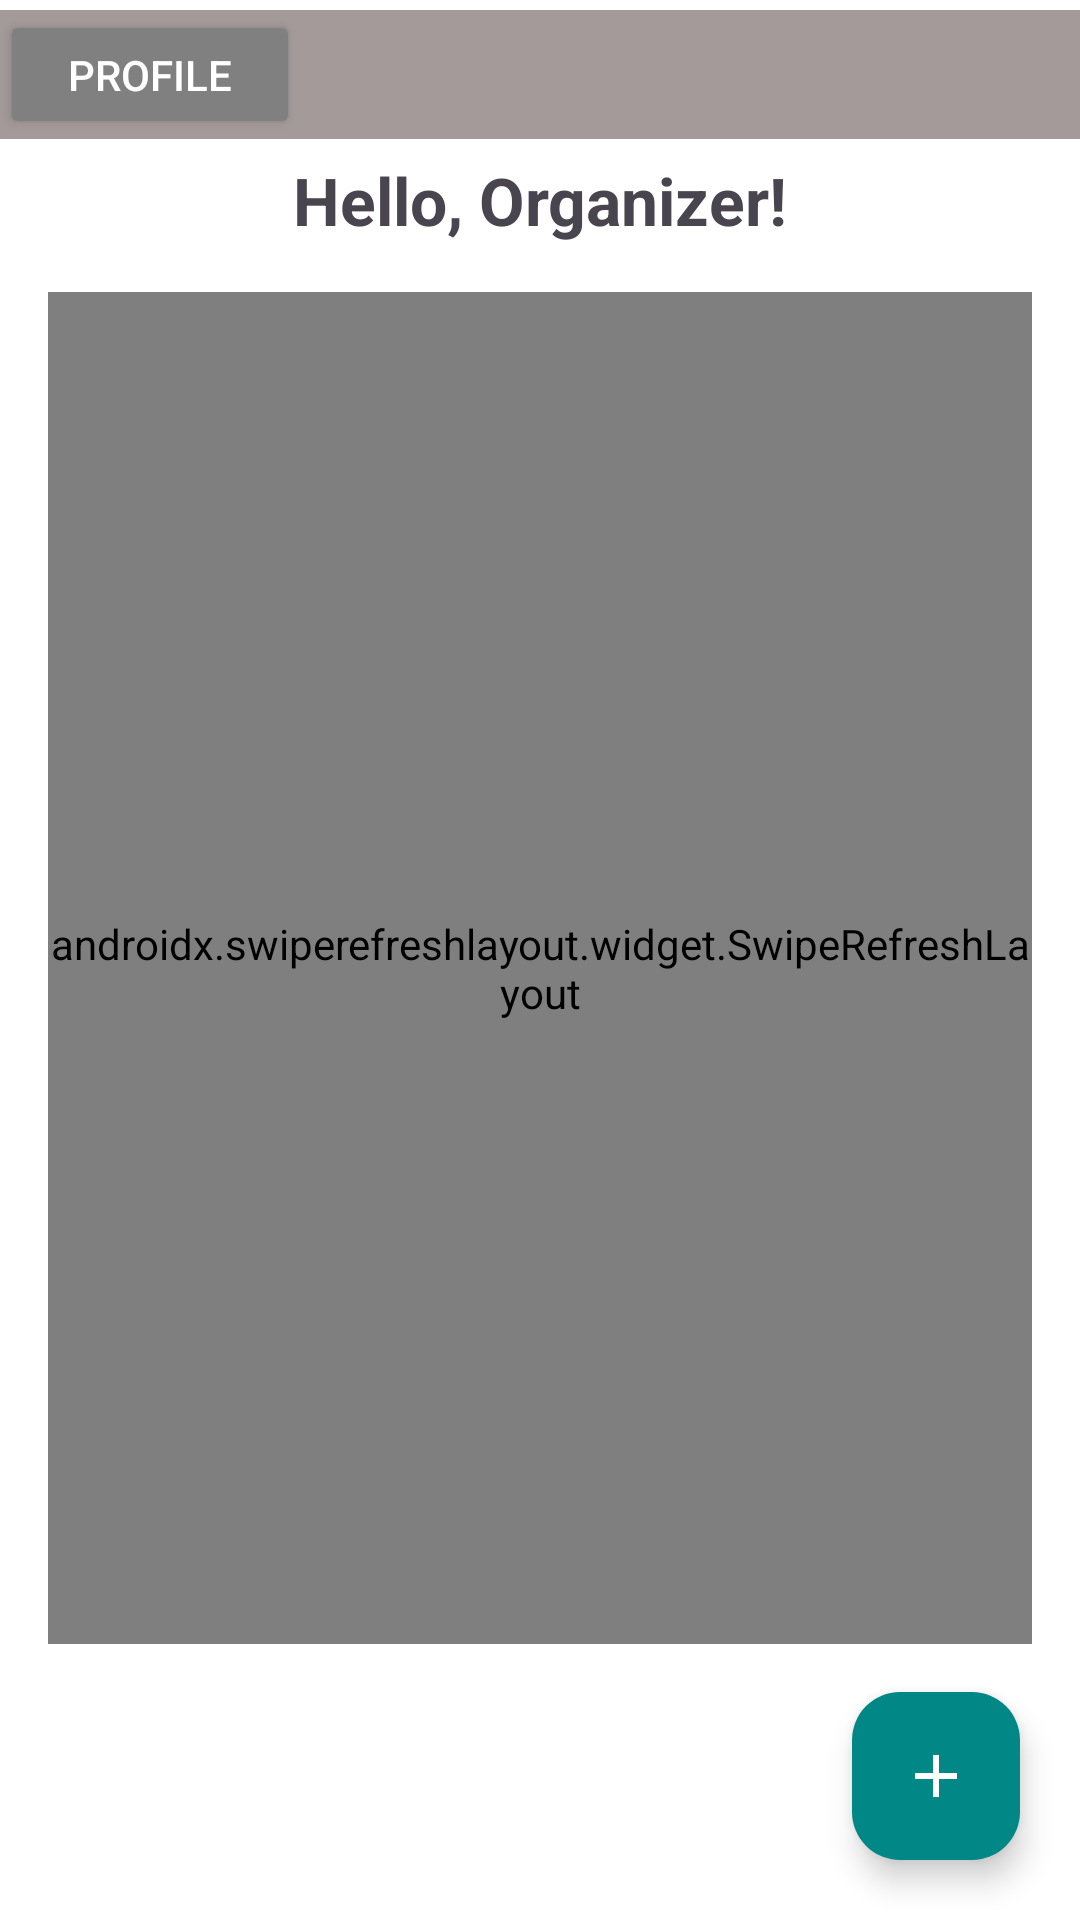

Icons on this 1080×1920 Android screen, each with the point to tap as [x,y]:
Create Event: [936,1776]
